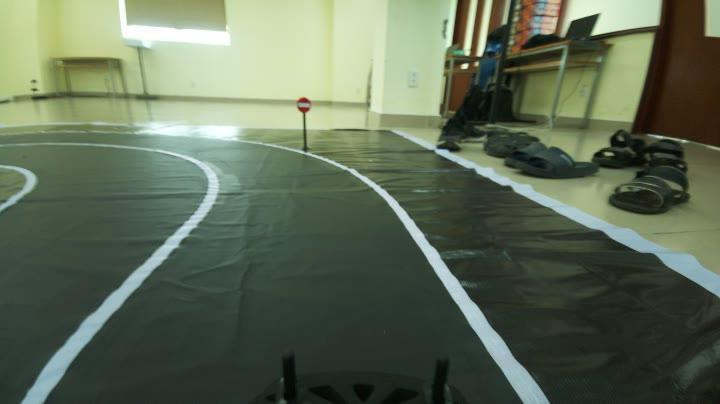no_entry: (292, 92, 314, 116)
